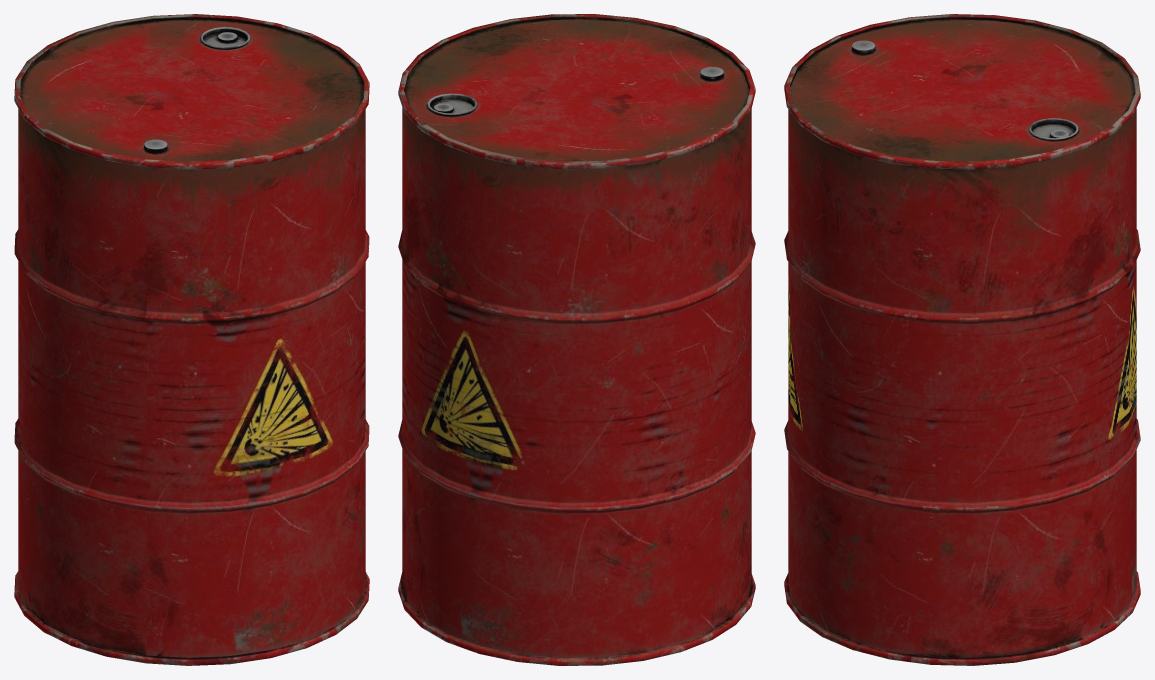
File: varil_kirmizi.gltf
The picture shows the model from 3 angles, left to right: view 1: azimuth 30°, elevation 25°; view 2: azimuth 150°, elevation 25°; view 3: azimuth 270°, elevation 25°; orthographic projection.
Visible parts, largest first — view 1: varil_kirmizi; view 2: varil_kirmizi; view 3: varil_kirmizi.
Part boxes in pixels (bbox=[...]): varil_kirmizi: bbox=[14, 14, 369, 665]; varil_kirmizi: bbox=[398, 14, 755, 665]; varil_kirmizi: bbox=[784, 14, 1140, 665].
Size of what is drawn, in the model's own units: 0.563 by 0.88 by 0.563.
Materials: 1 (1 with a texture image).
